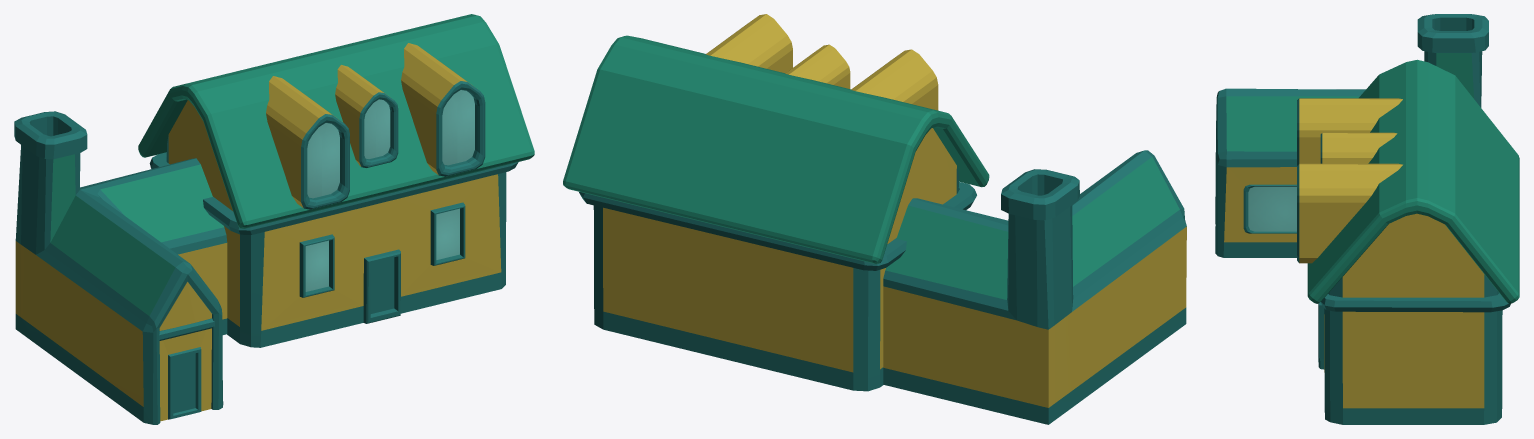
Rendered from SM_House_30.fbx.
The picture shows the model from 3 angles, left to right: view 1: azimuth 30°, elevation 25°; view 2: azimuth 150°, elevation 25°; view 3: azimuth 270°, elevation 25°; orthographic projection. The views are drawn at different scales.
Parts seen in each view (by area): view 1: SM_House_30; view 2: SM_House_30; view 3: SM_House_30.
Part boxes in pixels (x1,y1,x2,y2): SM_House_30: [14, 14, 534, 424]; SM_House_30: [563, 14, 1186, 424]; SM_House_30: [1215, 14, 1519, 424].
Size of the model in its own units: 1528 by 782 by 928.
